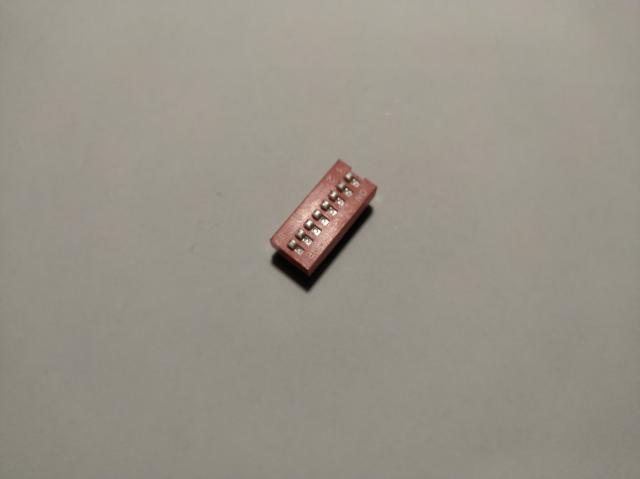dip_switch: (270, 160, 378, 276)
